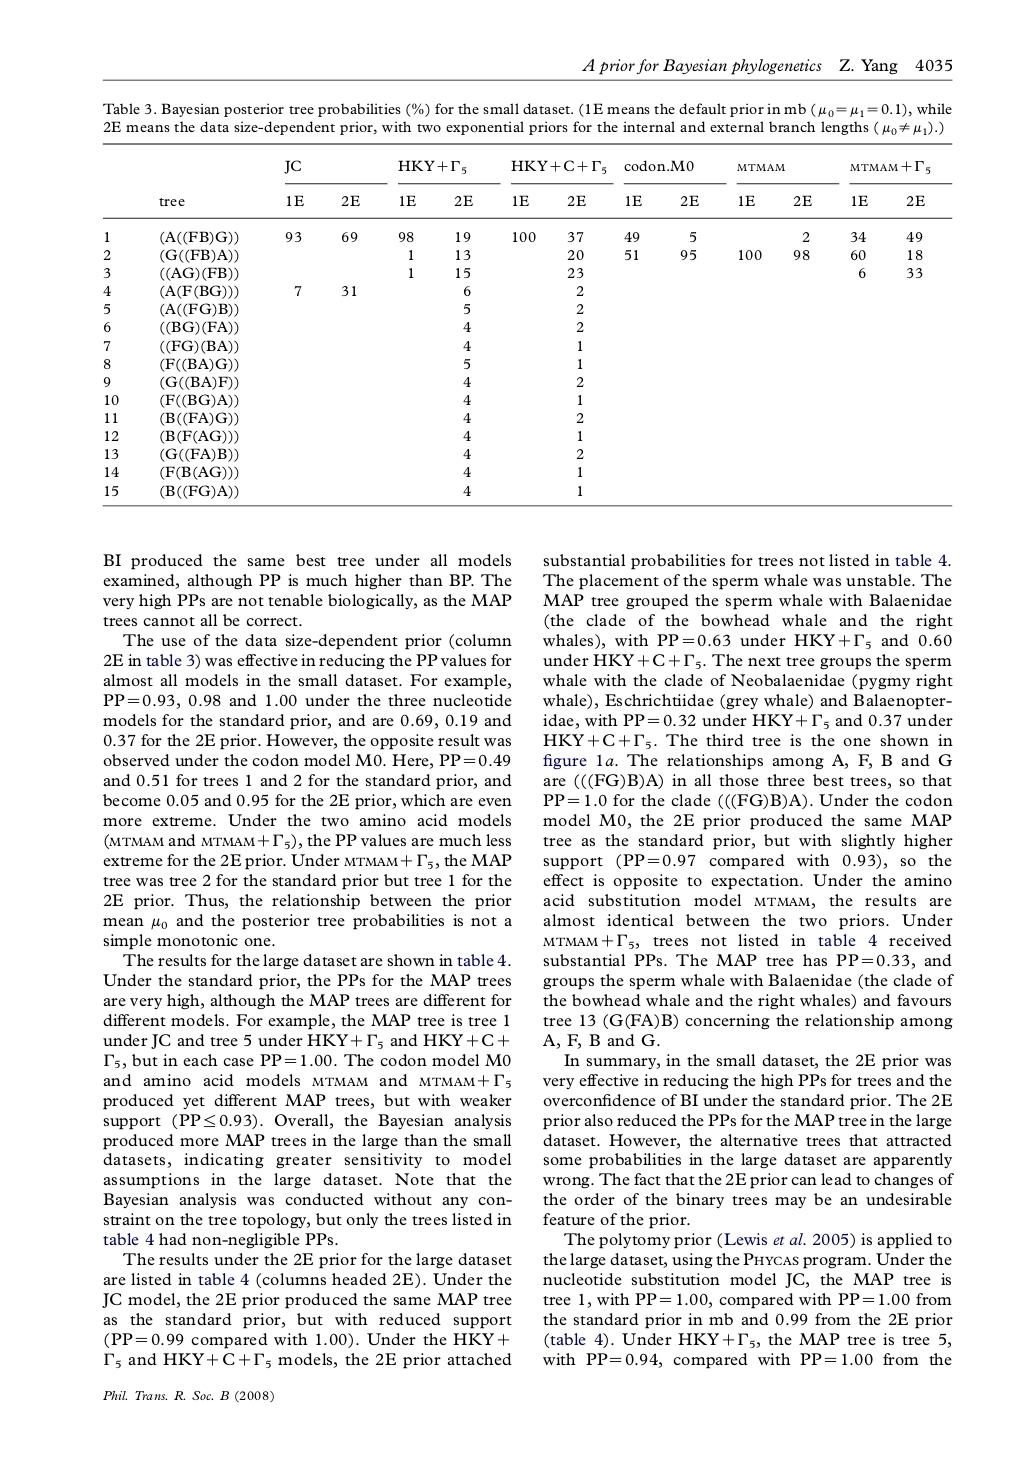Table: (102, 160, 952, 506)
